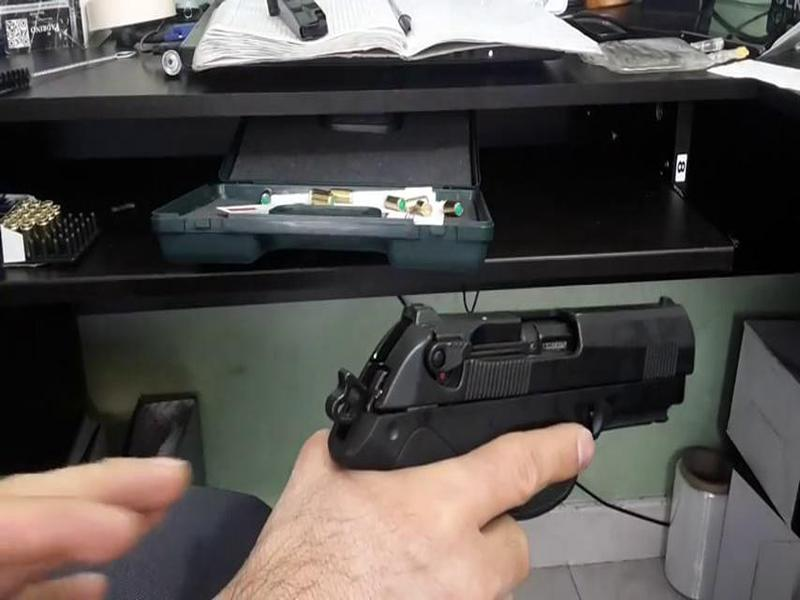Pistola: (306, 265, 704, 521)
